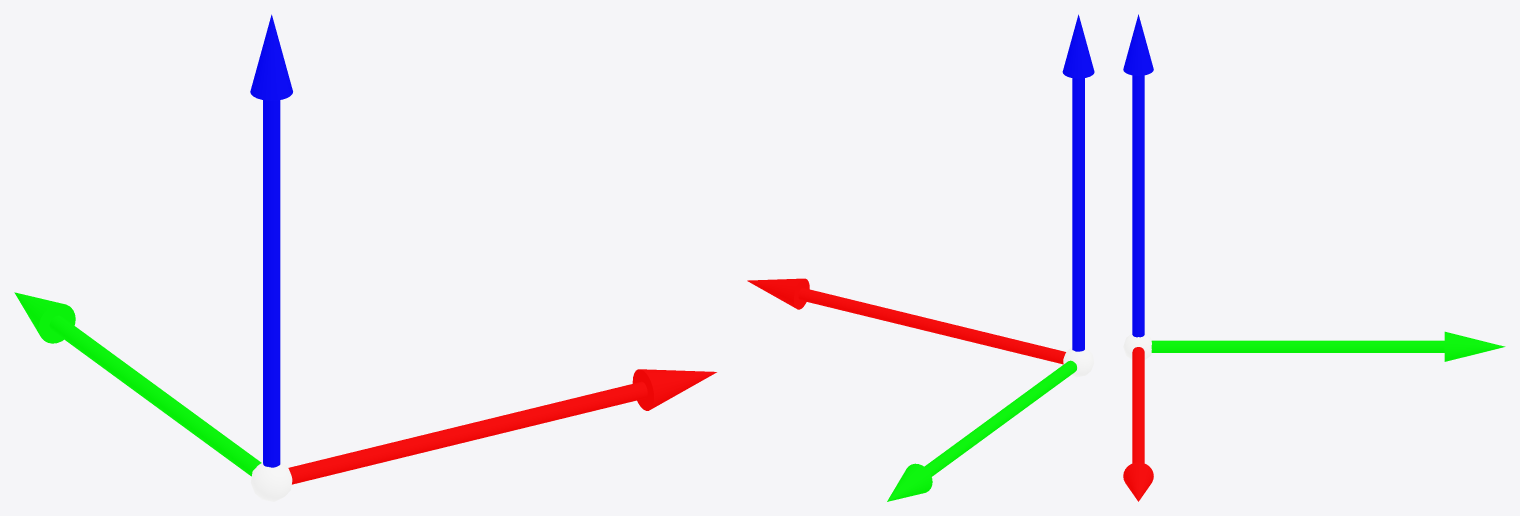
Rendered from axes.gltf.
3 renders of one model, left to right at view 1: azimuth 30°, elevation 25°; view 2: azimuth 150°, elevation 25°; view 3: azimuth 270°, elevation 25°, orthographic. The views are drawn at different scales.
Visible parts, largest first — view 1: z_shaft, x_shaft, y_shaft, z_head, x_head, y_head, origin; view 2: x_shaft, z_shaft, y_shaft, z_head, x_head, y_head, origin; view 3: y_shaft, z_shaft, x_shaft, z_head, y_head, x_head, origin.
Boxes of the visible parts, x1,y1,x2,y2 form: z_shaft: (263,100,280,467); x_shaft: (288,381,647,484); y_shaft: (49,315,261,476); z_head: (250,14,292,100); x_head: (632,369,716,410); y_head: (14,292,75,343); origin: (250,461,292,501); x_shaft: (798,288,1065,364); z_shaft: (1072,78,1084,351); y_shaft: (924,360,1076,476); z_head: (1062,14,1094,78); x_head: (747,278,809,309); y_head: (887,463,932,501); origin: (1063,347,1093,377); y_shaft: (1151,340,1444,352); z_shaft: (1132,75,1144,337); x_shaft: (1132,347,1144,463); z_head: (1123,14,1153,75); y_head: (1444,331,1505,361); x_head: (1123,462,1153,501); origin: (1123,333,1151,359).
Bounding box in the file's own units: 1.25 × 1.25 × 1.25.
